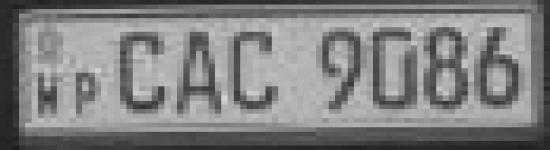0: (369, 24, 422, 113), (424, 23, 473, 112)
6: (472, 21, 522, 112)
9: (309, 26, 367, 115)
A: (173, 26, 228, 117)
C: (227, 28, 295, 117), (112, 26, 171, 118)
P: (73, 69, 107, 120)
W: (30, 70, 68, 120)
